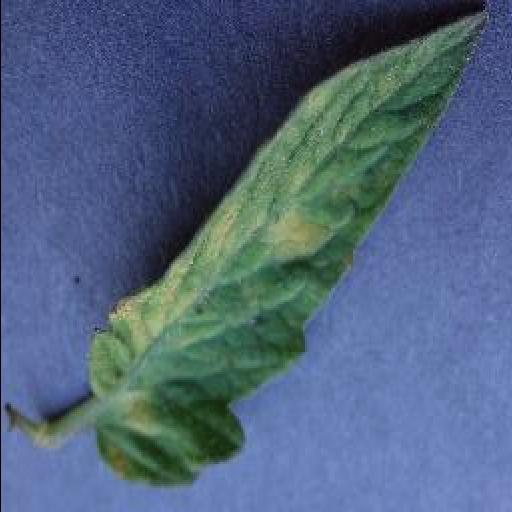disease_tomato: (86, 8, 494, 488)
